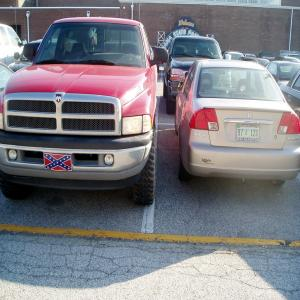Vehicle-registration-plate: (237, 125, 262, 142)
